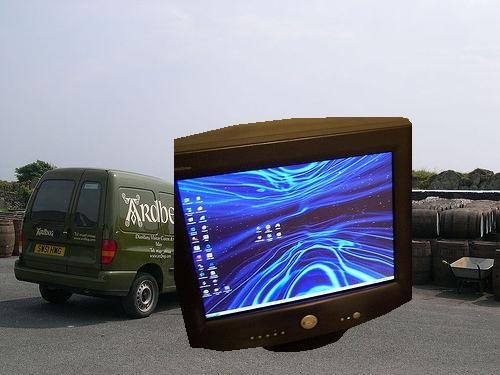tampered: (175, 118, 412, 352)
